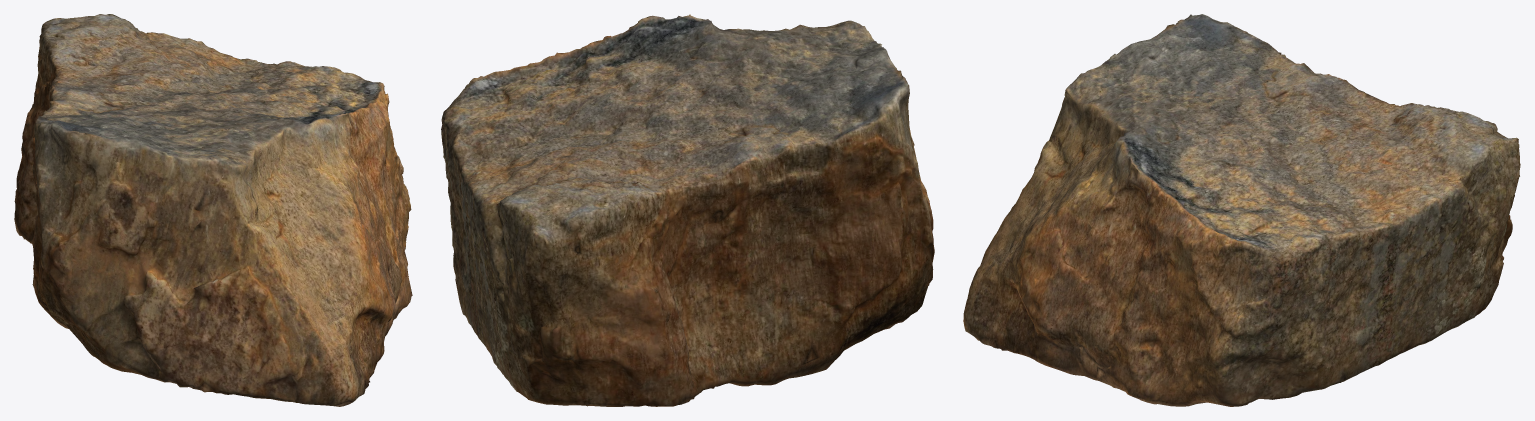
File: namaqualand_boulder_03.glb
3 renders of one model, left to right at view 1: azimuth 30°, elevation 25°; view 2: azimuth 150°, elevation 25°; view 3: azimuth 270°, elevation 25°, orthographic. The views are drawn at different scales.
Visible parts, largest first — view 1: boulder_03_LOD0; view 2: boulder_03_LOD0; view 3: boulder_03_LOD0.
Part boxes in pixels (x1=…): boulder_03_LOD0: x1=14, y1=14, x2=412, y2=406; boulder_03_LOD0: x1=441, y1=14, x2=934, y2=406; boulder_03_LOD0: x1=963, y1=14, x2=1520, y2=406.
Size of the model in its own units: 2.41 by 1.47 by 3.07.
Materials: 1 (1 with a texture image).
